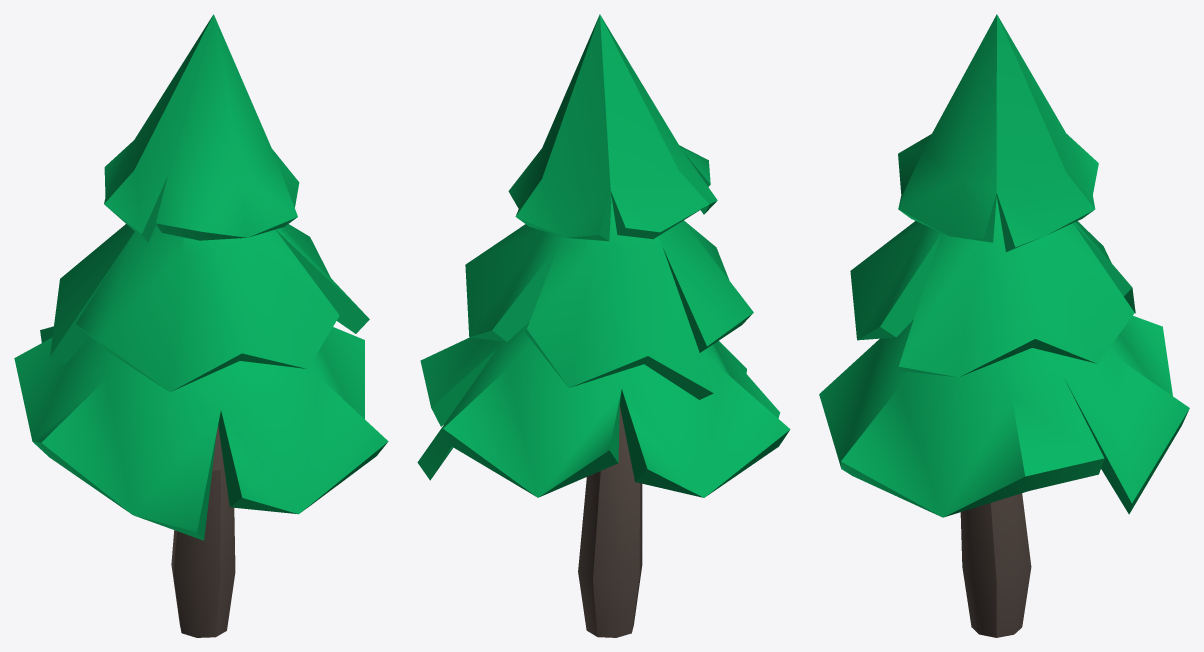
File: kay_pine_green.glb
The picture shows the model from 3 angles, left to right: view 1: azimuth 30°, elevation 25°; view 2: azimuth 150°, elevation 25°; view 3: azimuth 270°, elevation 25°; orthographic projection.
Visible parts, largest first — view 1: tree_pine_yellow_small; view 2: tree_pine_yellow_small; view 3: tree_pine_yellow_small.
Boxes of the visible parts, <box> form: tree_pine_yellow_small: <box>14,14,388,637</box>; tree_pine_yellow_small: <box>417,14,790,637</box>; tree_pine_yellow_small: <box>819,14,1189,637</box>.
Bounding box in the file's own units: 2.4 × 4.04 × 2.2.
1 material, 1 textured.
